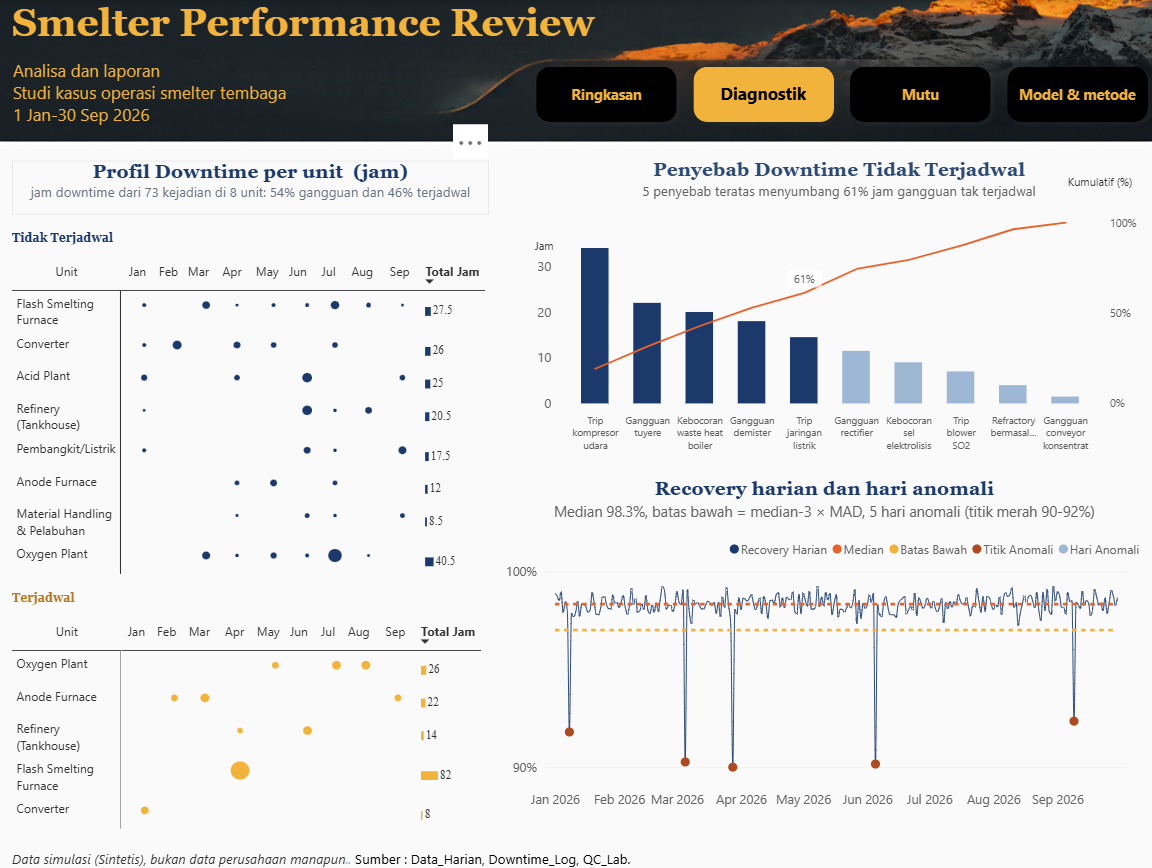

What the dashboard file says about the page in this screenshot:
{"tool":"powerbi","page":{"name":"Diagnostik","canvas":[1280,960],"ordinal":1},"visuals":[{"type":"image","title":"Image header","box":[0,0,1280,160],"z":0},{"type":"textbox","title":"text box judul","box":[16,0,672,64],"z":0,"group":"g1"},{"type":"pageNavigator","title":"page halaman","box":[585.3,64.5,692.7,79.4],"z":0,"group":"g4"},{"type":"lineClusteredColumnComboChart","title":"Penyebab Downtime Tidak Terjadwal","fields":{"Category":["Downtime_Log.Penyebab"],"Y":["Data_Harian.Downtime Tak Terjadwal Jam"],"Y2":["QC_Lab.Pareto Kumulatif Benar %"]},"box":[578.7,160.6,699.1,356.3],"z":0,"group":"g2"},{"type":"textbox","box":[1168.5,191,93.7,32],"z":0,"group":"g3"},{"type":"pivotTable","title":"Tidak Terjadwal","fields":{"Columns":["Dim_Tanggal.Nama_Bulan"],"Rows":["Downtime_Log.Unit"],"Values":["Data_Harian.Bubble SVG"]},"box":[17.3,254.8,527.4,383.6],"z":0,"group":"g5"},{"type":"group","id":"g1","title":"judul sub judul","box":[16,0,672,160],"z":1000,"group":"g4"},{"type":"textbox","title":"Text box subjudul","box":[16,64,320,96],"z":1000,"group":"g1"},{"type":"group","id":"g2","title":"Group 1","box":[578.7,160.6,699.1,356.3],"z":1000,"group":"g3"},{"type":"textbox","title":"jam text box","box":[580.1,261.1,45.6,25.7],"z":1000,"group":"g2"},{"type":"pivotTable","title":"Terjadwal","fields":{"Columns":["Dim_Tanggal.Nama_Bulan"],"Rows":["Downtime_Log.Unit"],"Values":["Data_Harian.Bubble SVG"]},"box":[17.3,631.8,527.4,286],"z":1000,"group":"g5"},{"type":"textbox","title":"footer","box":[16.5,935.8,1248.2,24.8],"z":1000},{"type":"group","id":"g3","title":"penyebab downtime","box":[578.7,160.6,699.1,356.3],"z":2000},{"type":"group","id":"g4","title":"header group","box":[16,0,1262,160],"z":3000},{"type":"group","id":"g5","title":"terjadwal dan tak terjadwal","box":[17.3,254.8,527.4,663],"z":4000},{"type":"lineChart","title":"Recovery harian dan hari anomali","fields":{"Category":["Dim_Tanggal.Date"],"Y":["_Ukuran.Recovery Harian %","_Ukuran.Median Recovery %","_Ukuran.Batas Bawah Recovery %","_Ukuran.Titik Anomali %","_Ukuran.Hari Anomali"]},"box":[544,512,736,400],"z":5000},{"type":"textbox","box":[17.3,177.2,525.7,59.7],"z":6000}]}

Visuals, with their boxes in screenshot pixels (x1, y1, x2, y2), scaled from the page's 1280x960 canvas onto the 1152x868 screenshot:
"Image header" image: pyautogui.locateOnScreen(0, 0, 1151, 145)
"text box judul" textbox: pyautogui.locateOnScreen(14, 0, 619, 58)
"page halaman" pageNavigator: pyautogui.locateOnScreen(527, 58, 1150, 130)
"Penyebab Downtime Tidak Terjadwal" lineClusteredColumnComboChart: pyautogui.locateOnScreen(521, 145, 1150, 467)
textbox: pyautogui.locateOnScreen(1052, 173, 1136, 202)
"Tidak Terjadwal" pivotTable: pyautogui.locateOnScreen(16, 230, 490, 577)
"judul sub judul" group: pyautogui.locateOnScreen(14, 0, 619, 145)
"Text box subjudul" textbox: pyautogui.locateOnScreen(14, 58, 302, 145)
"Group 1" group: pyautogui.locateOnScreen(521, 145, 1150, 467)
"jam text box" textbox: pyautogui.locateOnScreen(522, 236, 563, 259)
"Terjadwal" pivotTable: pyautogui.locateOnScreen(16, 571, 490, 830)
"footer" textbox: pyautogui.locateOnScreen(15, 846, 1138, 867)
"penyebab downtime" group: pyautogui.locateOnScreen(521, 145, 1150, 467)
"header group" group: pyautogui.locateOnScreen(14, 0, 1150, 145)
"terjadwal dan tak terjadwal" group: pyautogui.locateOnScreen(16, 230, 490, 830)
"Recovery harian dan hari anomali" lineChart: pyautogui.locateOnScreen(490, 463, 1151, 825)
textbox: pyautogui.locateOnScreen(16, 160, 489, 214)
